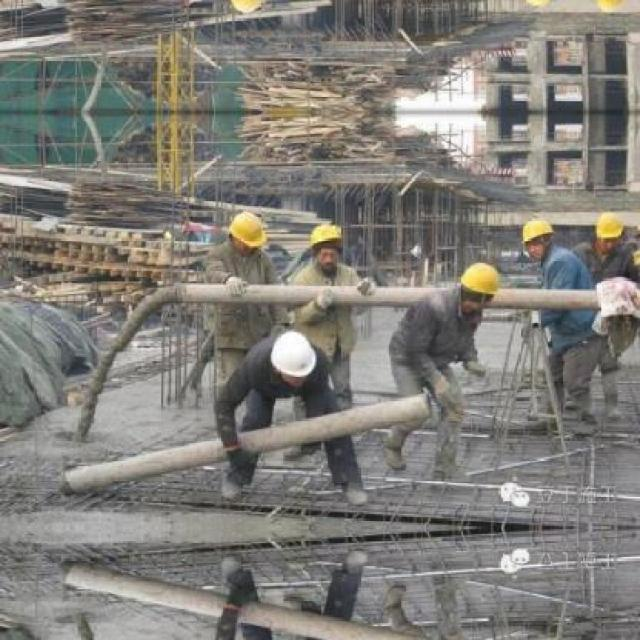hat: (269, 314, 325, 385), (446, 260, 508, 300), (228, 209, 277, 257), (302, 225, 347, 256), (592, 205, 625, 244), (520, 217, 562, 245)
